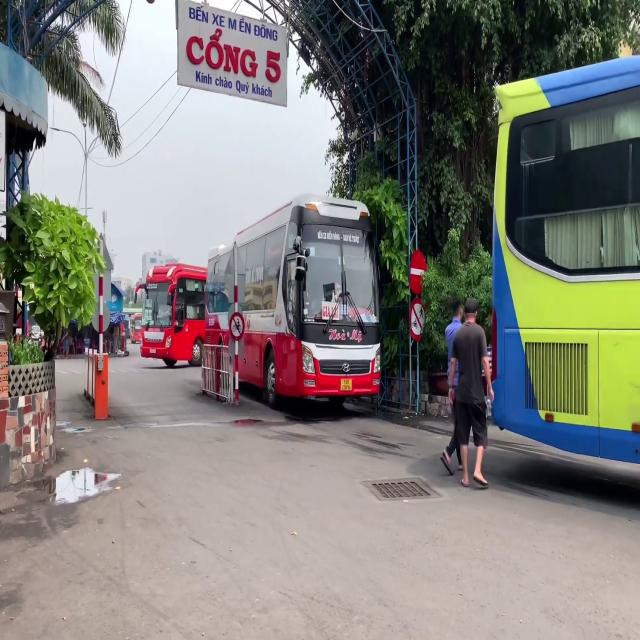bien_vang: (340, 378, 352, 391)
